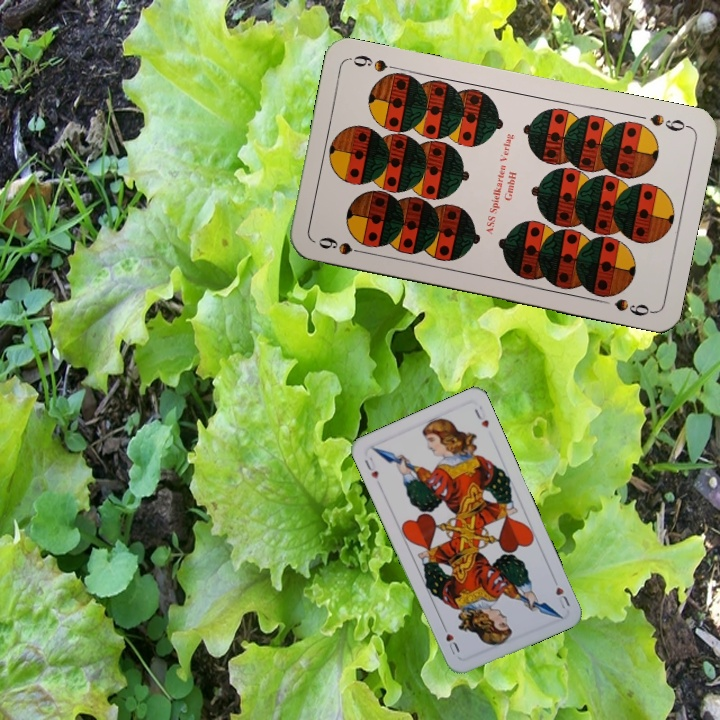HU: (549, 573, 573, 612), (360, 453, 381, 482)
S9: (315, 233, 371, 258), (646, 110, 692, 134)
